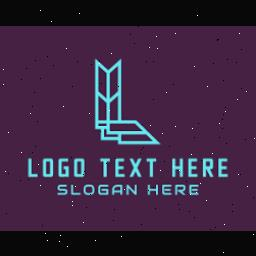l: (74, 55, 164, 151)
